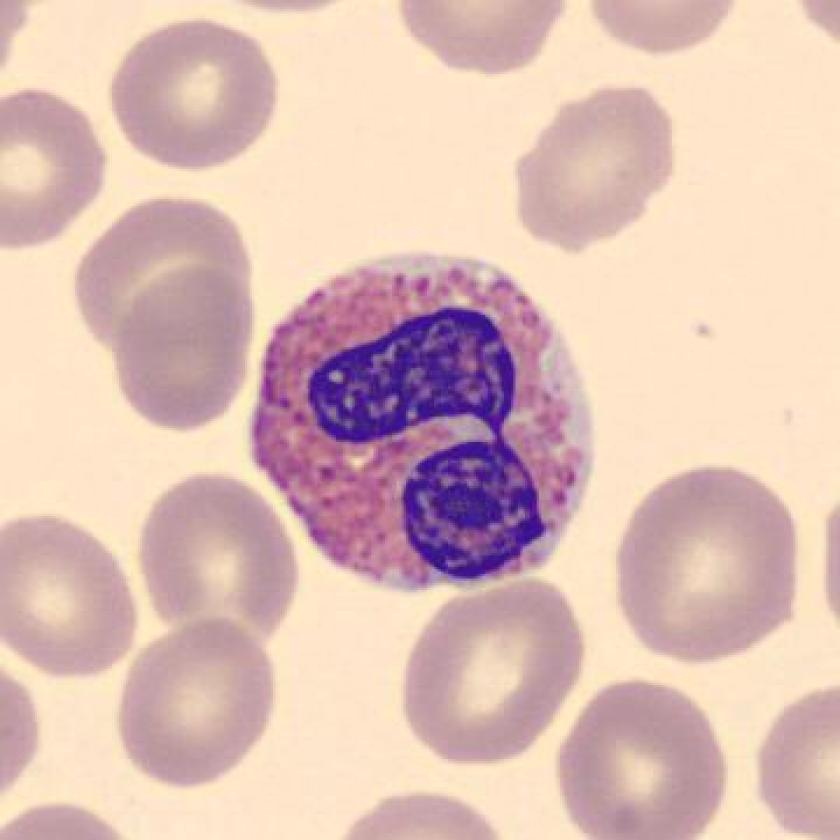eosinophil: (244, 239, 605, 603)
